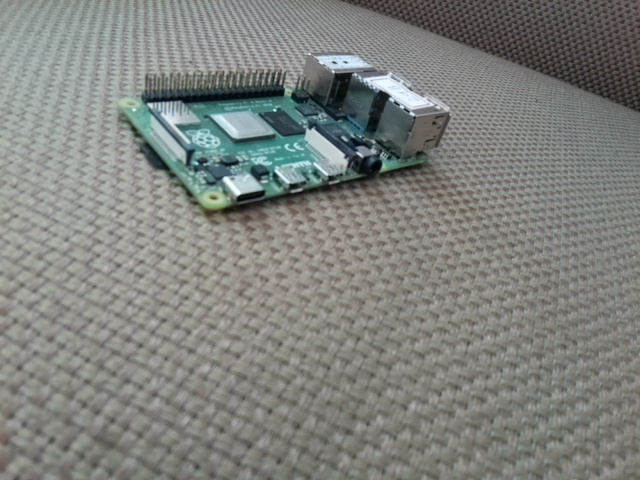Pi4: (111, 46, 456, 215)
